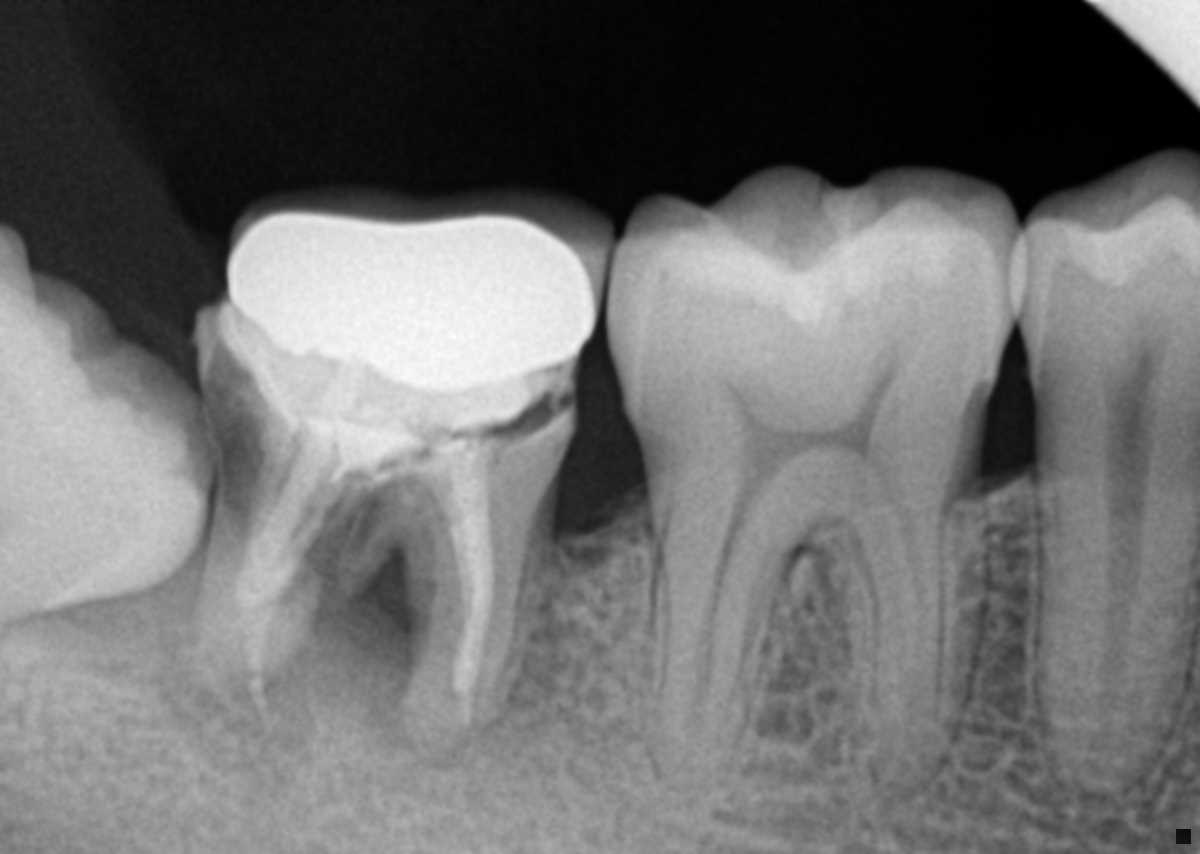Apical Lesion: (372, 614, 567, 790)
Distal Canal: (687, 501, 752, 760)
Distal Root: (646, 495, 800, 796), (192, 493, 327, 708)
Main Canal: (1083, 419, 1152, 788)
Main Root: (1038, 419, 1200, 802)
Mesial Canal: (879, 489, 928, 707)
Mesial Root: (839, 498, 986, 797), (400, 506, 558, 762)
Root Canal Filling: (240, 419, 353, 705), (421, 440, 490, 728)
